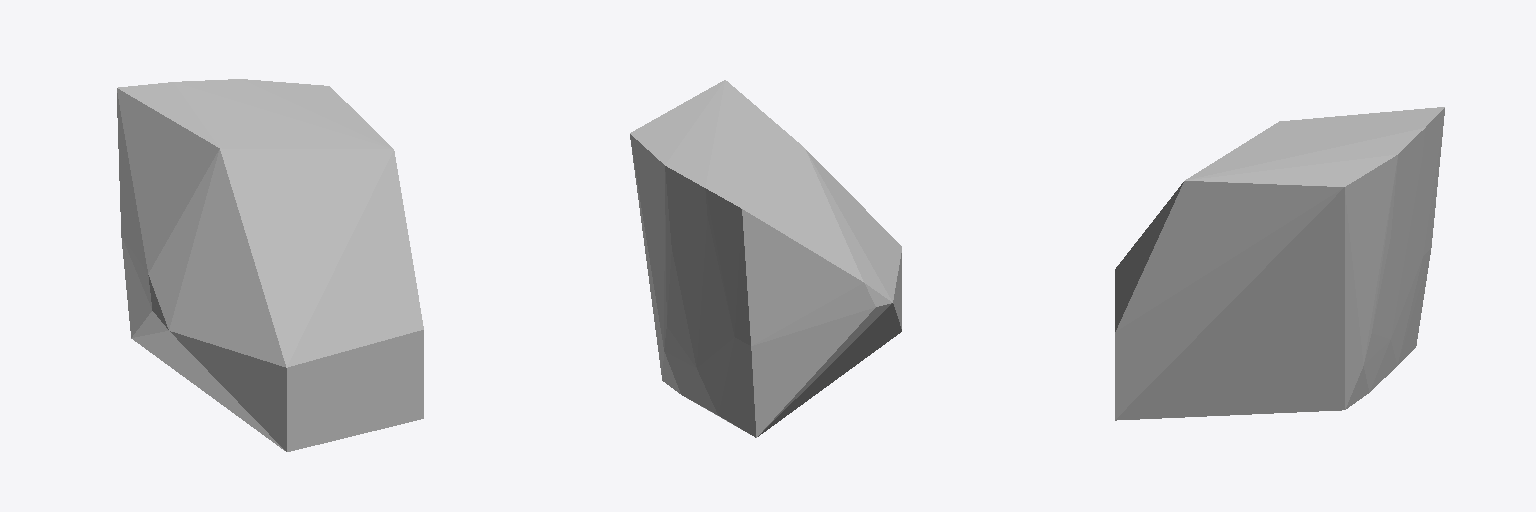
Rendered from trash_bin_collision_49.obj.
The picture shows the model from 3 angles: view 1: azimuth 30°, elevation 25°; view 2: azimuth 150°, elevation 25°; view 3: azimuth 270°, elevation 25°; orthographic projection.
Bounding box in the file's own units: 0.0274 × 0.0305 × 0.037.